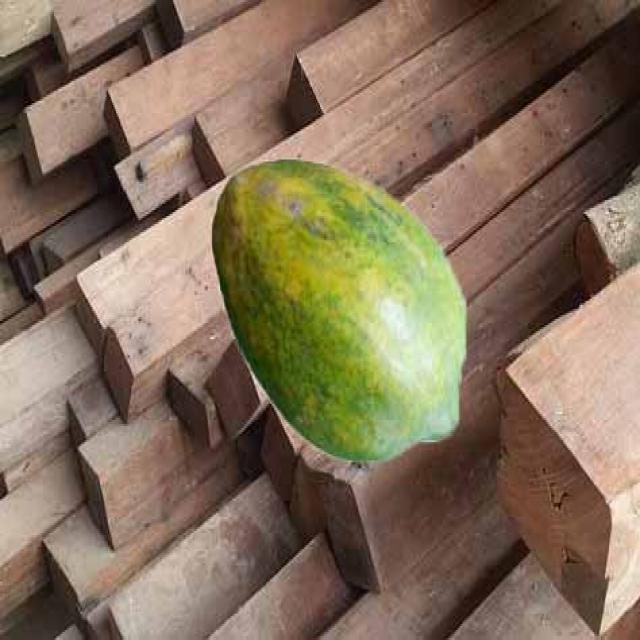Pepaya rippen: (211, 156, 474, 470)
